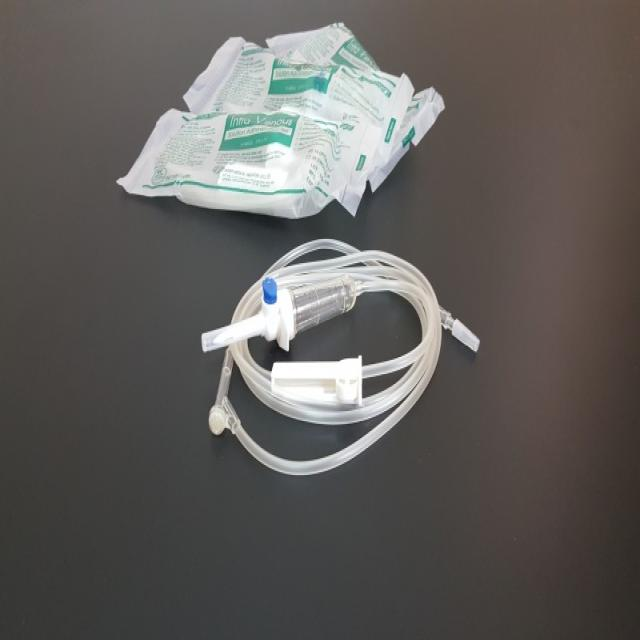B3: (190, 232, 487, 498)
